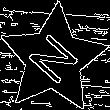N_SE: (22, 27, 85, 91)
